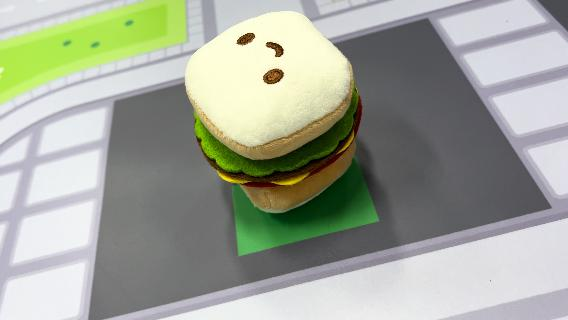sandwich: (182, 9, 366, 214)
